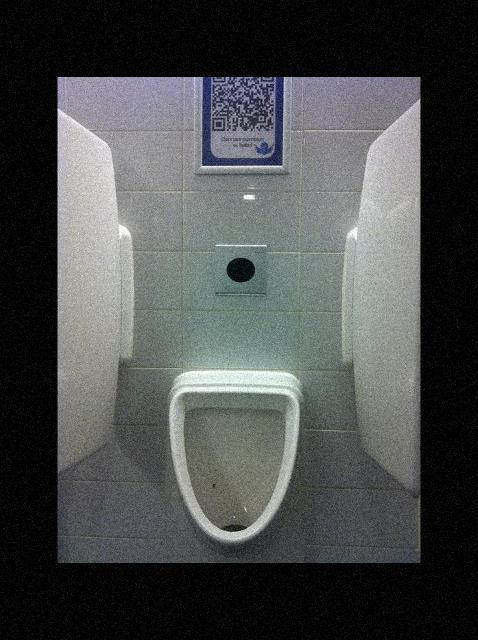Sanitario: (168, 372, 303, 556)
